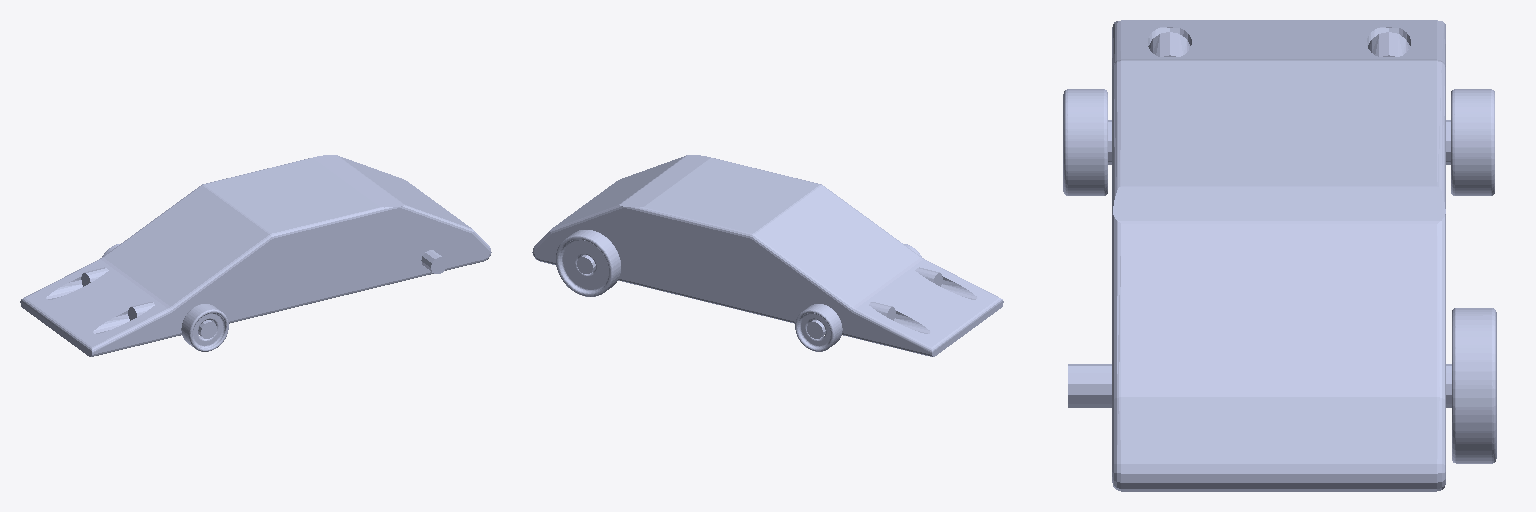
The robot description file, URDF, robot "ros_dharmendra_urdf":
<?xml version="1.0" encoding="utf-8"?>
<!-- This URDF was automatically created by SolidWorks to URDF Exporter! Originally created by [author] ([email redacted]) 
     Commit Version: 1.6.0-4-g7f85cfe  Build Version: 1.6.7995.38578
     For more information, please see http://wiki.ros.org/sw_urdf_exporter -->
<robot
  name="ros_dharmendra_urdf">
  <link
    name="base_link">
    <inertial>
      <origin
        xyz="-0.0063727 3.1468E-09 -0.027165"
        rpy="0 0 0" />
      <mass
        value="0.57979" />
      <inertia
        ixx="0.00036672"
        ixy="-6.0661E-11"
        ixz="-6.4146E-05"
        iyy="0.0018919"
        iyz="-1.5777E-10"
        izz="0.0020754" />
    </inertial>
    <visual>
      <origin
        xyz="0 0 0"
        rpy="0 0 0" />
      <geometry>
        <mesh
          filename="package://ros_dharmendra_urdf/meshes/base_link.STL" />
      </geometry>
      <material
        name="">
        <color
          rgba="0.79216 0.81961 0.93333 1" />
      </material>
    </visual>
    <collision>
      <origin
        xyz="0 0 0"
        rpy="0 0 0" />
      <geometry>
        <mesh
          filename="package://ros_dharmendra_urdf/meshes/base_link.STL" />
      </geometry>
    </collision>
  </link>
  <link
    name="back_left_wheel">
    <inertial>
      <origin
        xyz="0 0 0"
        rpy="0 0 0" />
      <mass
        value="0.0055484" />
      <inertia
        ixx="5.5246E-07"
        ixy="-2.2255E-24"
        ixz="2.9406E-23"
        iyy="1.0532E-06"
        iyz="1.3357E-24"
        izz="5.5246E-07" />
    </inertial>
    <visual>
      <origin
        xyz="0 0 0"
        rpy="0 0 0" />
      <geometry>
        <mesh
          filename="package://ros_dharmendra_urdf/meshes/back_left_wheel.STL" />
      </geometry>
      <material
        name="">
        <color
          rgba="0.79216 0.81961 0.93333 1" />
      </material>
    </visual>
    <collision>
      <origin
        xyz="0 0 0"
        rpy="0 0 0" />
      <geometry>
        <mesh
          filename="package://ros_dharmendra_urdf/meshes/back_left_wheel.STL" />
      </geometry>
    </collision>
  </link>
  <joint
    name="back_left_joint"
    type="continuous">
    <origin
      xyz="0.06211 -0.0438 -0.036"
      rpy="0 0 3.1416" />
    <parent
      link="base_link" />
    <child
      link="back_left_wheel" />
    <axis
      xyz="0 -1 0" />
  </joint>
  <link
    name="back_right_wheel">
    <inertial>
      <origin
        xyz="0 0 0"
        rpy="0 0 0" />
      <mass
        value="0.0055484" />
      <inertia
        ixx="5.5246E-07"
        ixy="-2.2255E-24"
        ixz="2.9406E-23"
        iyy="1.0532E-06"
        iyz="1.3357E-24"
        izz="5.5246E-07" />
    </inertial>
    <visual>
      <origin
        xyz="0 0 0"
        rpy="0 0 0" />
      <geometry>
        <mesh
          filename="package://ros_dharmendra_urdf/meshes/back_right_wheel.STL" />
      </geometry>
      <material
        name="">
        <color
          rgba="0.79216 0.81961 0.93333 1" />
      </material>
    </visual>
    <collision>
      <origin
        xyz="0 0 0"
        rpy="0 0 0" />
      <geometry>
        <mesh
          filename="package://ros_dharmendra_urdf/meshes/back_right_wheel.STL" />
      </geometry>
    </collision>
  </link>
  <joint
    name="back_right_joint"
    type="continuous">
    <origin
      xyz="0.06211 0.0438 -0.036"
      rpy="0 0 3.1416" />
    <parent
      link="base_link" />
    <child
      link="back_right_wheel" />
    <axis
      xyz="0 -1 0" />
  </joint>
  <link
    name="front_right_wheel">
    <inertial>
      <origin
        xyz="0 0 1.3878E-17"
        rpy="0 0 0" />
      <mass
        value="0.0026487" />
      <inertia
        ixx="1.3876E-07"
        ixy="1.6729E-24"
        ixz="9.497E-40"
        iyy="2.4899E-07"
        iyz="1.4027E-40"
        izz="1.3876E-07" />
    </inertial>
    <visual>
      <origin
        xyz="0 0 0"
        rpy="0 0 0" />
      <geometry>
        <mesh
          filename="package://ros_dharmendra_urdf/meshes/front_right_wheel.STL" />
      </geometry>
      <material
        name="">
        <color
          rgba="0.79216 0.81961 0.93333 1" />
      </material>
    </visual>
    <collision>
      <origin
        xyz="0 0 0"
        rpy="0 0 0" />
      <geometry>
        <mesh
          filename="package://ros_dharmendra_urdf/meshes/front_right_wheel.STL" />
      </geometry>
    </collision>
  </link>
  <joint
    name="front_right_joint"
    type="continuous">
    <origin
      xyz="-0.07789 0.0435 -0.041"
      rpy="0 0 0" />
    <parent
      link="base_link" />
    <child
      link="front_right_wheel" />
    <axis
      xyz="0 1 0" />
  </joint>
  <link
    name="front_left_wheel">
    <inertial>
      <origin
        xyz="0 2.7756E-17 1.3878E-17"
        rpy="0 0 0" />
      <mass
        value="0.0026487" />
      <inertia
        ixx="1.3876E-07"
        ixy="1.6729E-24"
        ixz="-9.497E-40"
        iyy="2.4899E-07"
        iyz="-1.4027E-40"
        izz="1.3876E-07" />
    </inertial>
    <visual>
      <origin
        xyz="0 0 0"
        rpy="0 0 0" />
      <geometry>
        <mesh
          filename="package://ros_dharmendra_urdf/meshes/front_left_wheel.STL" />
      </geometry>
      <material
        name="">
        <color
          rgba="0.79216 0.81961 0.93333 1" />
      </material>
    </visual>
    <collision>
      <origin
        xyz="0 0 0"
        rpy="0 0 0" />
      <geometry>
        <mesh
          filename="package://ros_dharmendra_urdf/meshes/front_left_wheel.STL" />
      </geometry>
    </collision>
  </link>
  <joint
    name="front_left_joint"
    type="continuous">
    <origin
      xyz="-0.07789 -0.0435 -0.041"
      rpy="0 0 3.1416" />
    <parent
      link="base_link" />
    <child
      link="front_left_wheel" />
    <axis
      xyz="0 -1 0" />
  </joint>
</robot>

--- Render facts (derived) ---
The picture shows the robot from 3 angles, left to right: view 1: azimuth 30°, elevation 25°; view 2: azimuth 150°, elevation 25°; view 3: azimuth 270°, elevation 25°; orthographic projection.
Model ros_dharmendra_urdf with 5 links and 4 joints (4 continuous), rooted at base_link, posed all joints at 0.
Visible links, largest first — view 1: base_link, front_left_wheel; view 2: base_link, back_right_wheel, front_right_wheel; view 3: base_link, back_right_wheel, front_left_wheel, front_right_wheel.
Boxes of the visible links, left/top/right/bottom form: base_link: left=20, top=155, right=491, bottom=356; front_left_wheel: left=181, top=304, right=228, bottom=351; base_link: left=532, top=155, right=1003, bottom=356; back_right_wheel: left=556, top=230, right=620, bottom=296; front_right_wheel: left=795, top=304, right=842, bottom=351; base_link: left=1068, top=20, right=1451, bottom=491; back_right_wheel: left=1452, top=308, right=1496, bottom=463; front_left_wheel: left=1063, top=89, right=1107, bottom=195; front_right_wheel: left=1451, top=89, right=1494, bottom=195.
Size in the robot's own frame: 0.2442 by 0.0973 by 0.0535 metres.
Meshes: 5 distinct files referenced, 4 mesh visuals loaded (4 binary STL); not drawn: 1 (reference not matched to a file when rendering).
